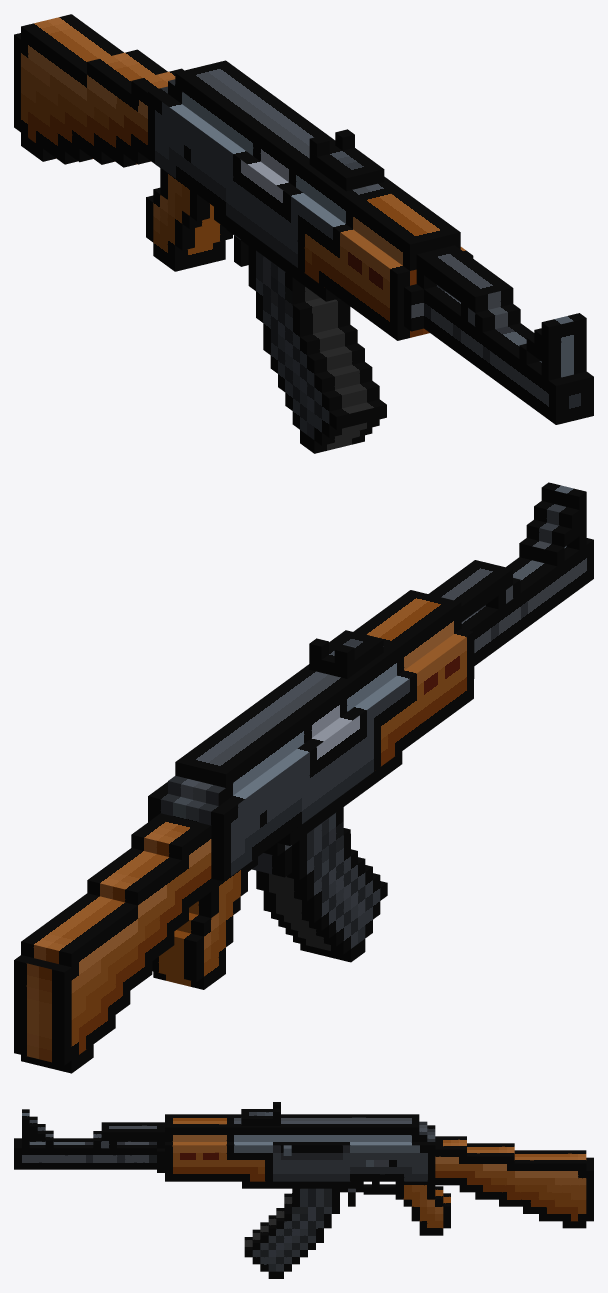
3 renders of one model, top to bottom at view 1: azimuth 30°, elevation 25°; view 2: azimuth 150°, elevation 25°; view 3: azimuth 270°, elevation 25°, orthographic. The views are drawn at different scales.
Visible parts, largest first — view 1: AK47_Mesh_0; view 2: AK47_Mesh_0; view 3: AK47_Mesh_0.
Boxes of the visible parts, x1,y1,x2,y2 form: AK47_Mesh_0: (14,14,593,453); AK47_Mesh_0: (14,482,593,1073); AK47_Mesh_0: (14,1102,593,1278).
Size of the model in its own units: 0.1276 by 0.4191 by 1.33.
Materials: 1 (1 with a texture image).
